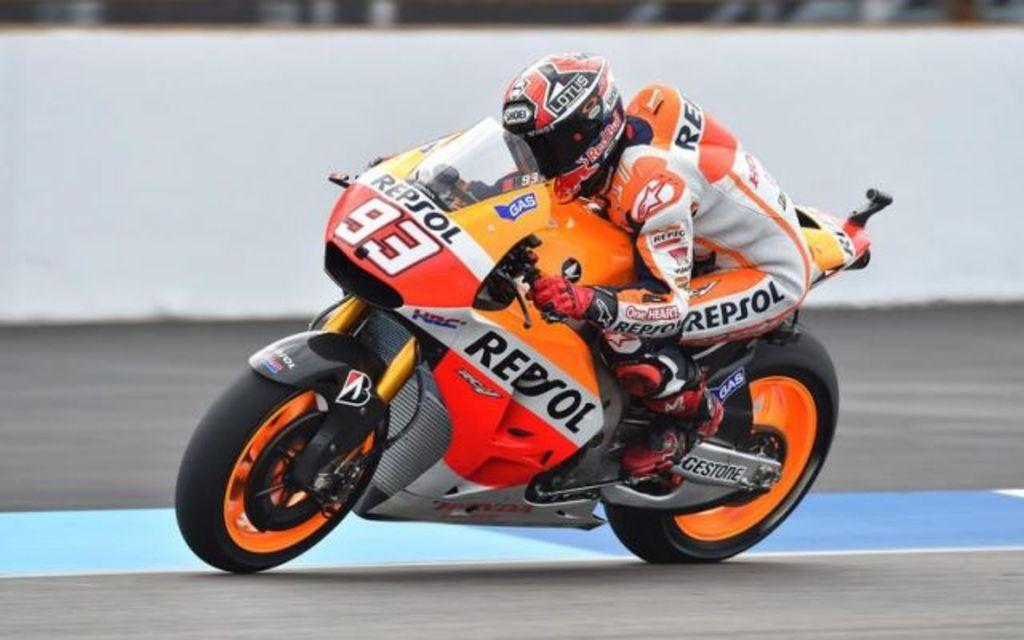helmet: (501, 50, 628, 206)
